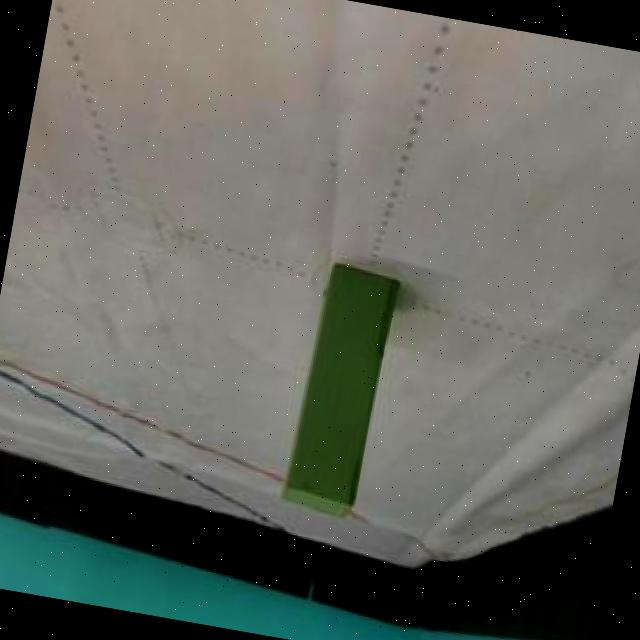greenbox: (274, 257, 403, 526)
